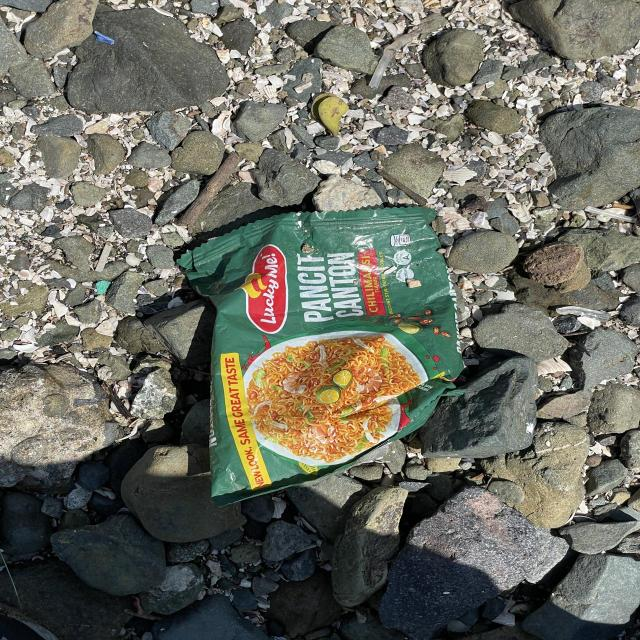plastic_waste: (175, 204, 471, 512)
